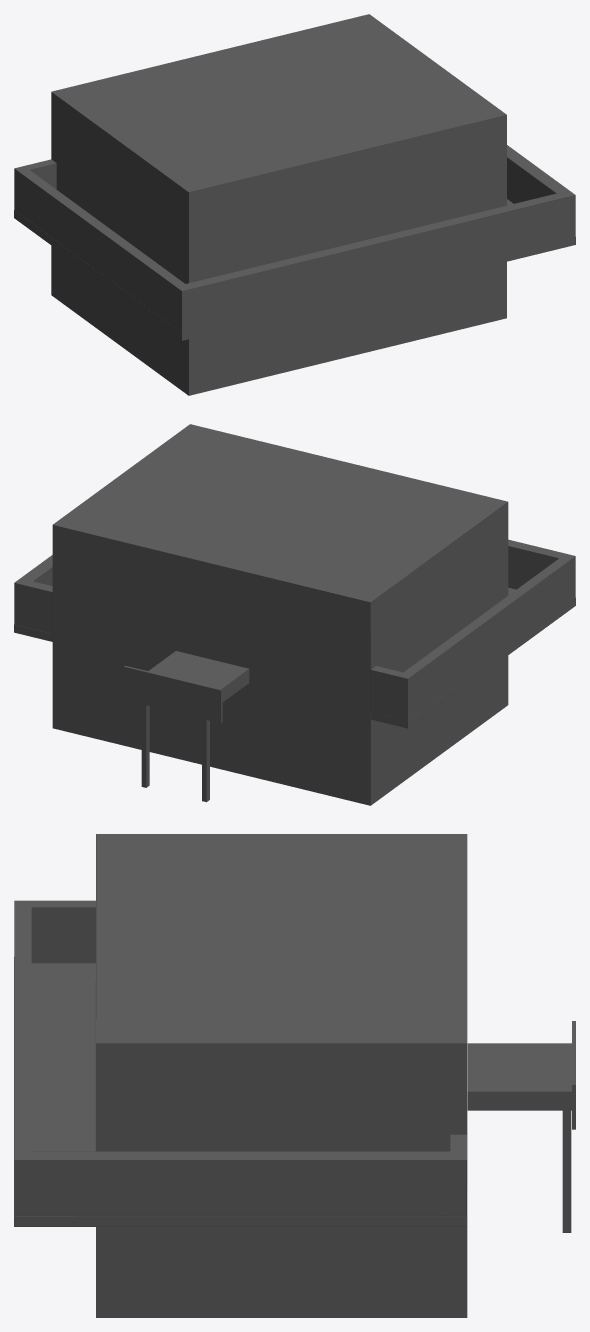
Rendered from New building UV unwrapped .fbx.
3 renders of one model, top to bottom at view 1: azimuth 30°, elevation 25°; view 2: azimuth 150°, elevation 25°; view 3: azimuth 270°, elevation 25°, orthographic. The views are drawn at different scales.
Visible parts, largest first — view 1: Cube; view 2: Cube; view 3: Cube.
Boxes of the visible parts, left/top/right/bottom form: Cube: left=14, top=14, right=575, bottom=395; Cube: left=14, top=424, right=575, bottom=805; Cube: left=14, top=834, right=575, bottom=1317.
Bounding box in the file's own units: 1183 × 584 × 1083.
1 material, 1 textured.
